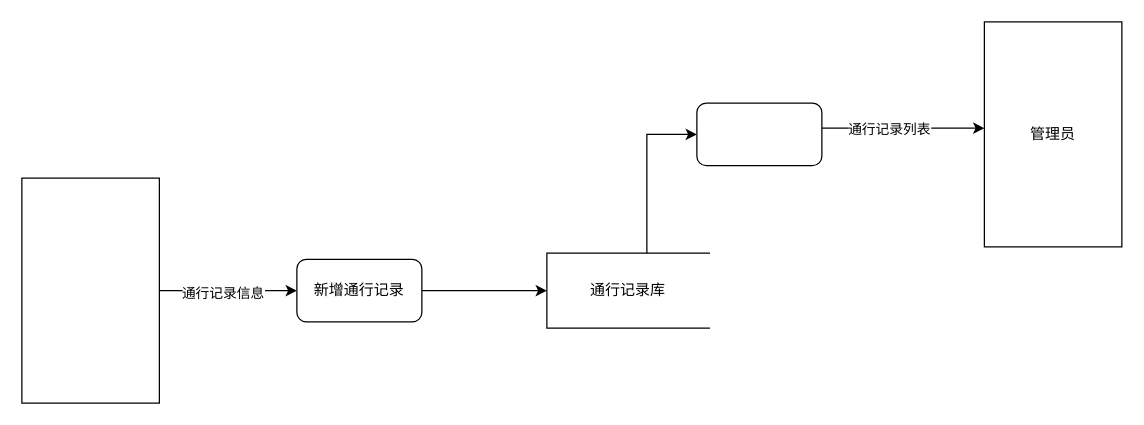
Some shapes in this 1144 by 425 pixel diagram are drawn without their labels. Here are the shapes that lost their labels. From the top down, the box of each, then its label:
(696, 102, 822, 166): 查询通行记录
(21, 177, 159, 403): 子系统适配器
